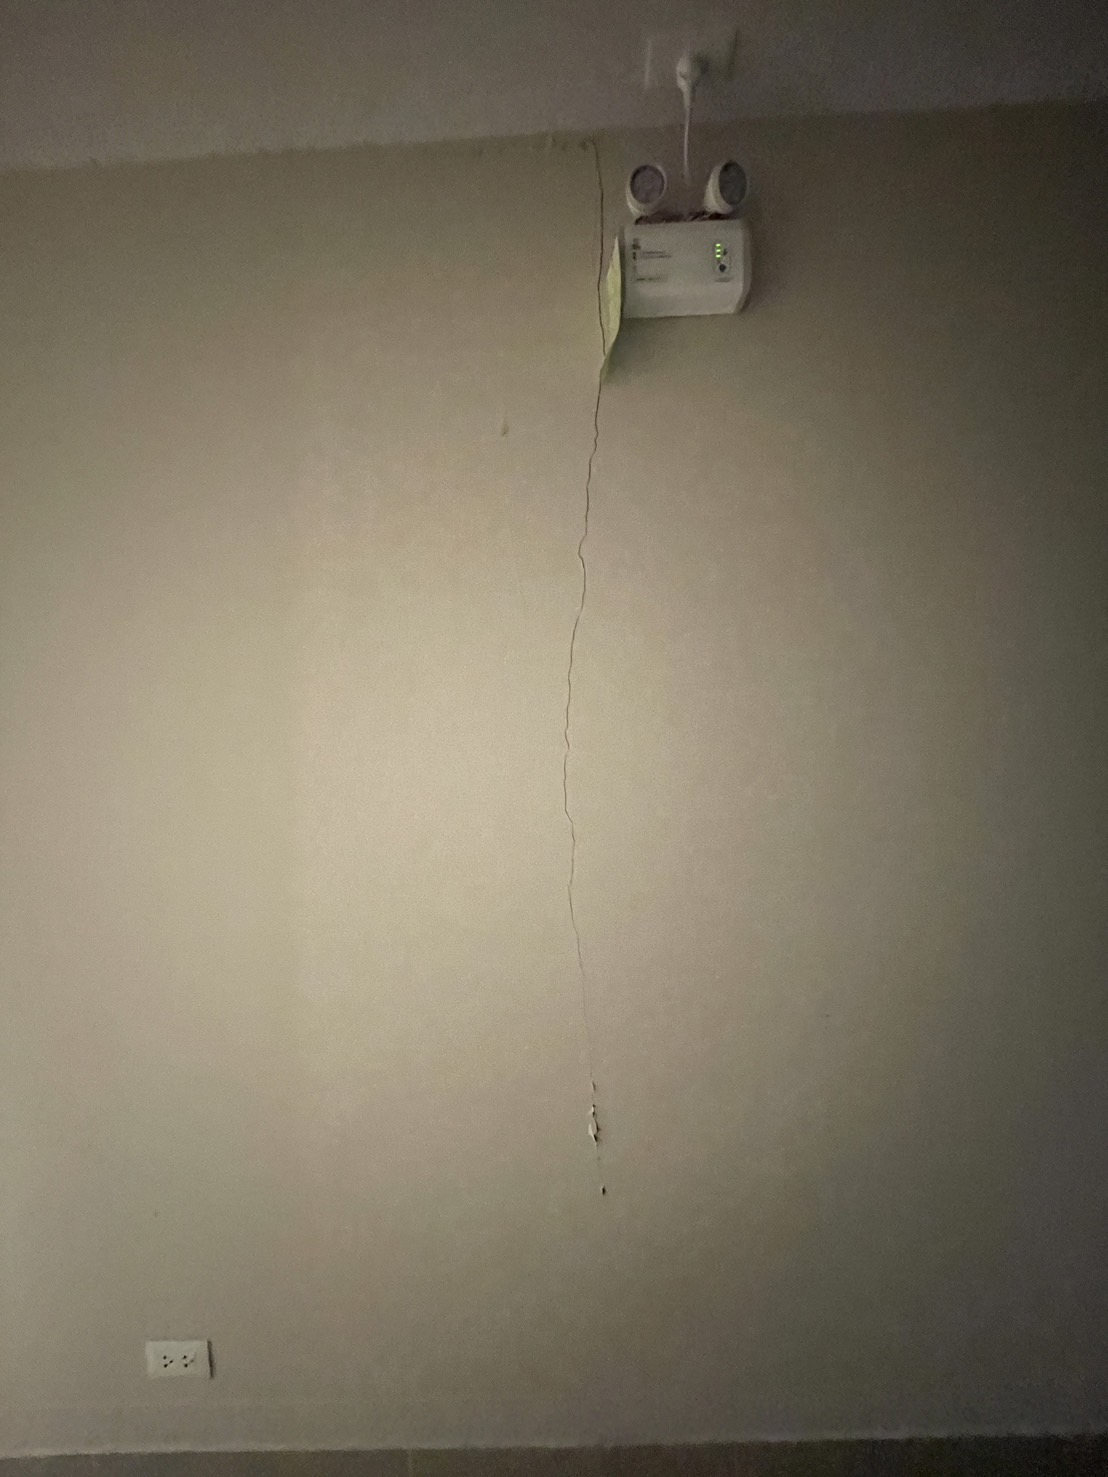Low: (510, 119, 687, 1234)
